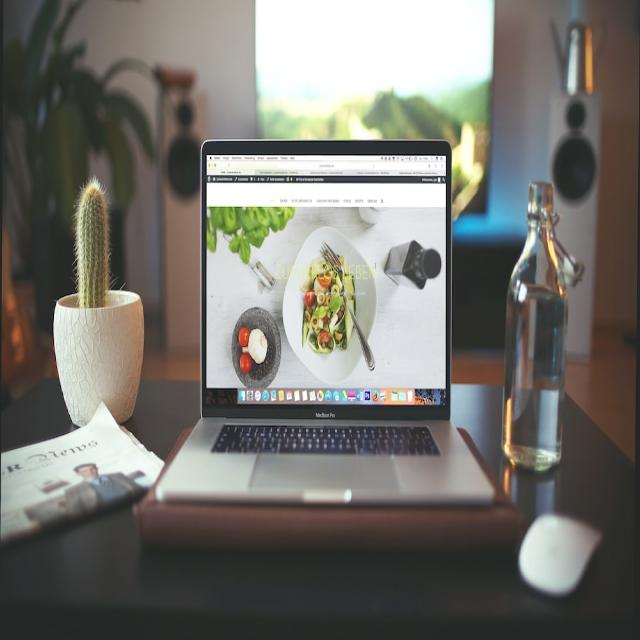keyboard: (159, 419, 494, 493)
